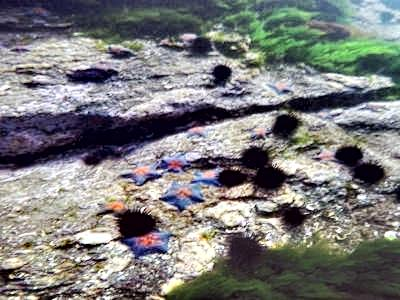urchin: (229, 233, 262, 264), (115, 210, 156, 234), (354, 165, 381, 184), (257, 166, 280, 187), (274, 114, 298, 133), (217, 168, 242, 186), (333, 143, 359, 160), (190, 35, 212, 54), (284, 206, 304, 226), (244, 147, 264, 166), (214, 62, 231, 81)
